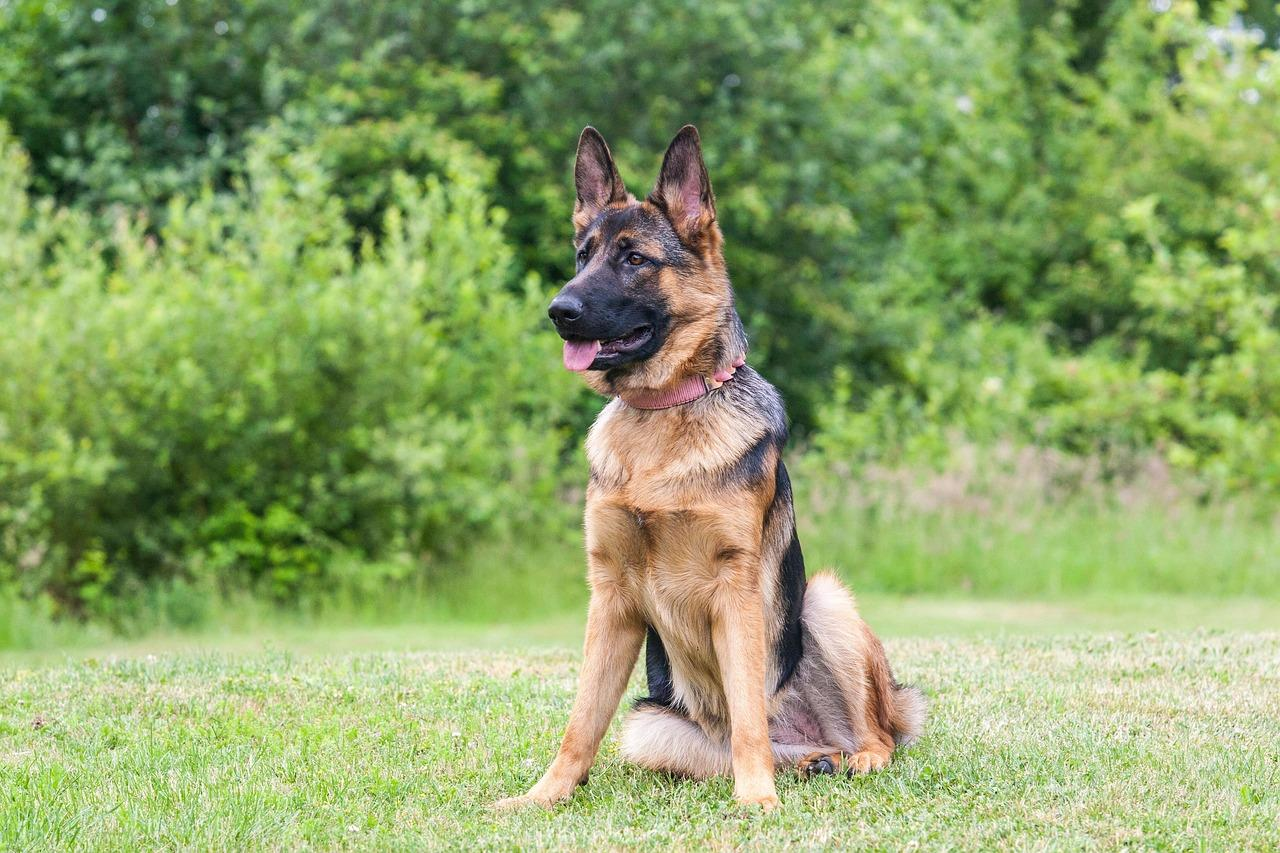german_shepherd: (553, 119, 720, 417)
